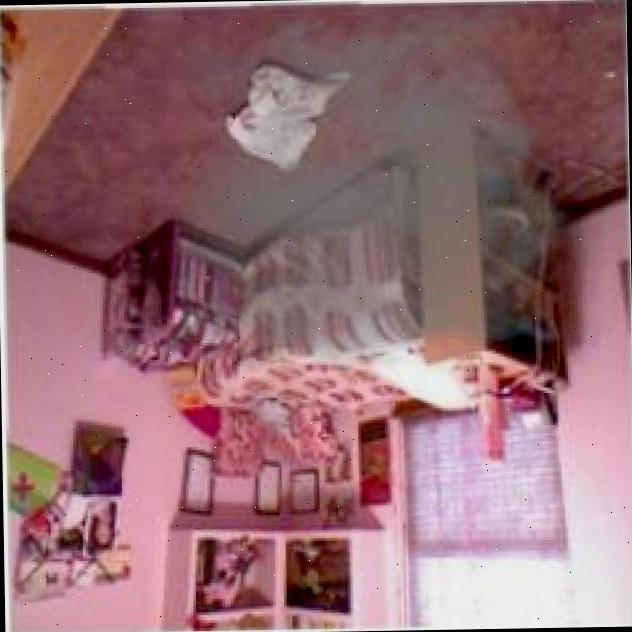smoke: (170, 1, 595, 374)
